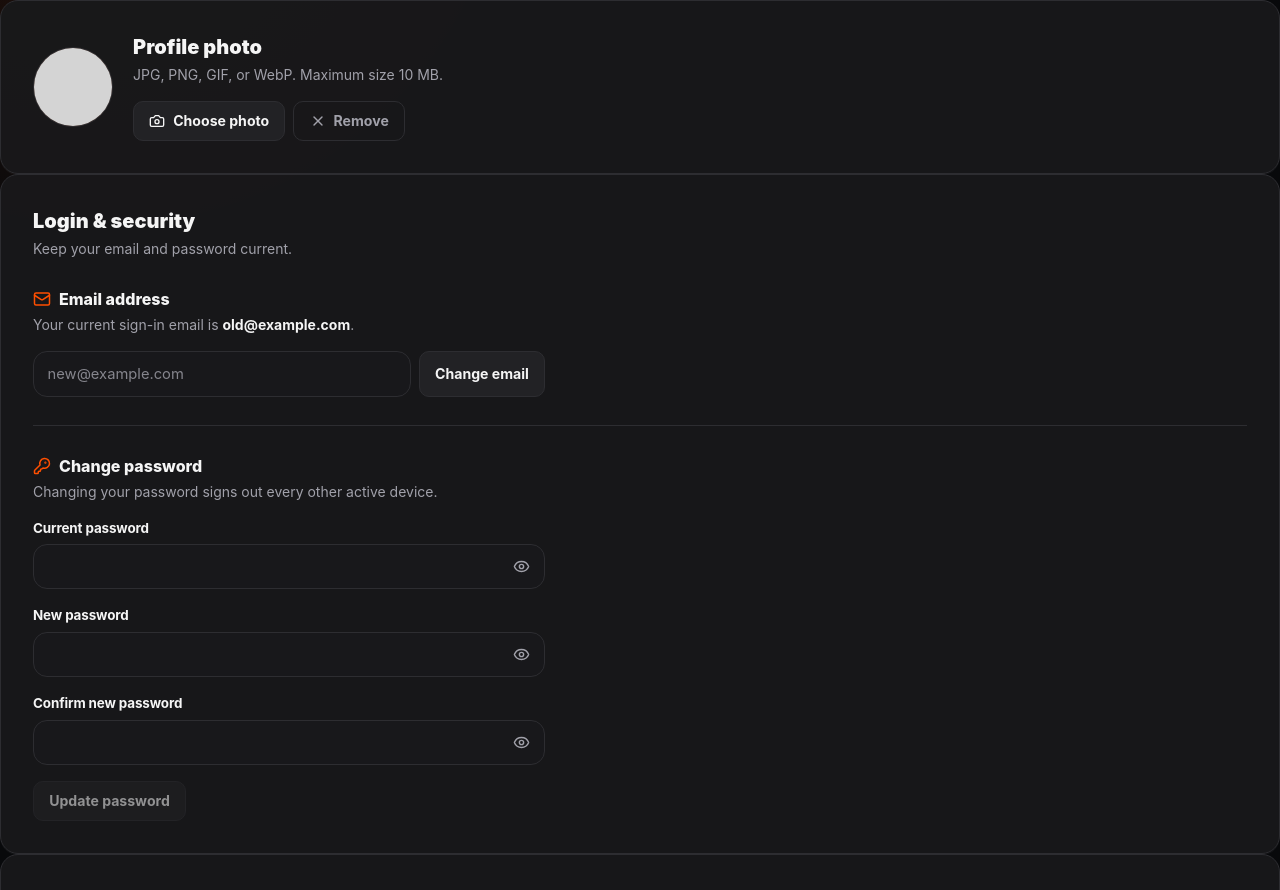
AccountSecurity › validates password confirmation and revokes other sessions on success
Type "old-secret" into the password field labelled "Current password" at (289,567), box [33, 544, 545, 590]
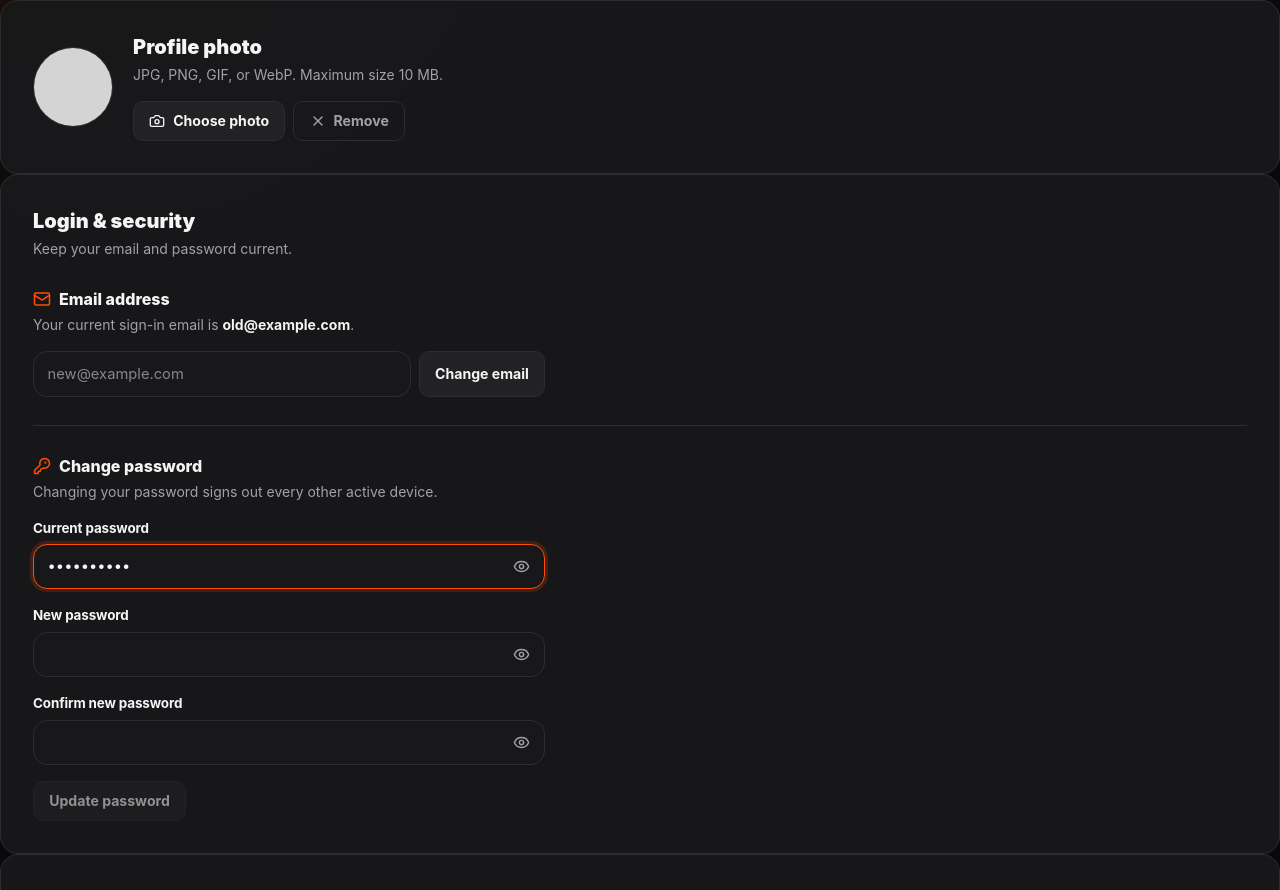
Type "new-secret-one" into the password field labelled "New password" at (289,654), box [33, 632, 545, 677]
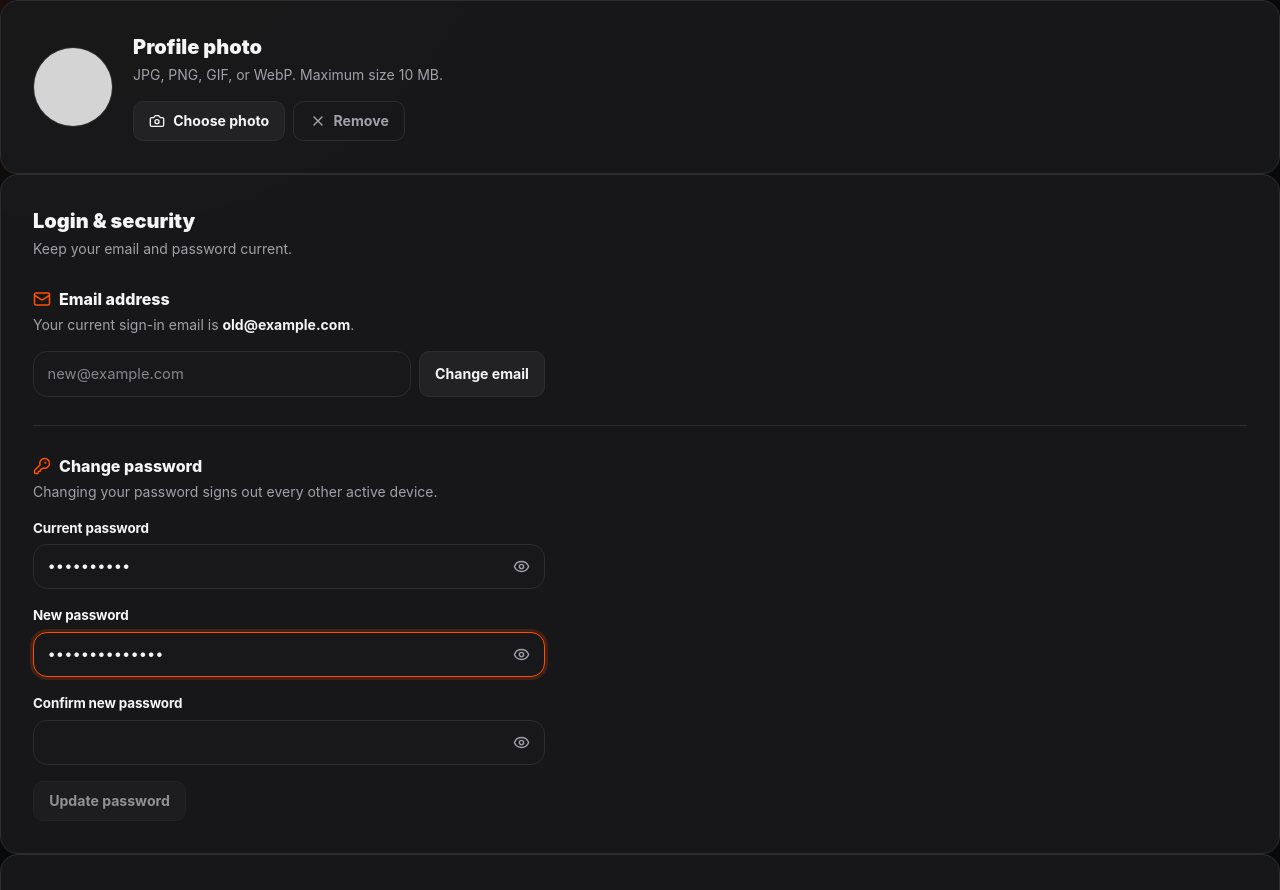
Type "new-secret-two" into the password field labelled "Confirm new password" at (289,742), box [33, 720, 545, 765]
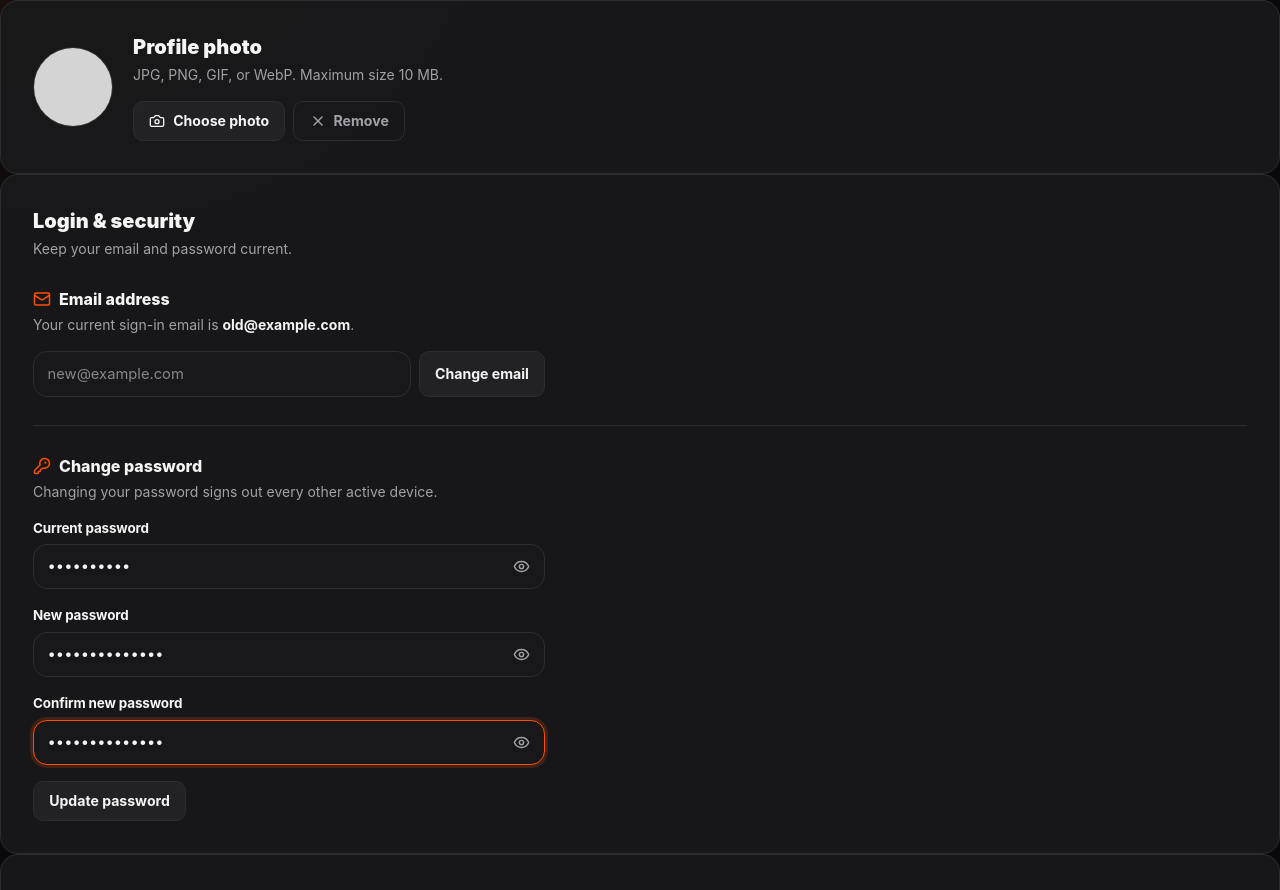
Click the button "Update password" at (110,801), box [33, 781, 186, 821]
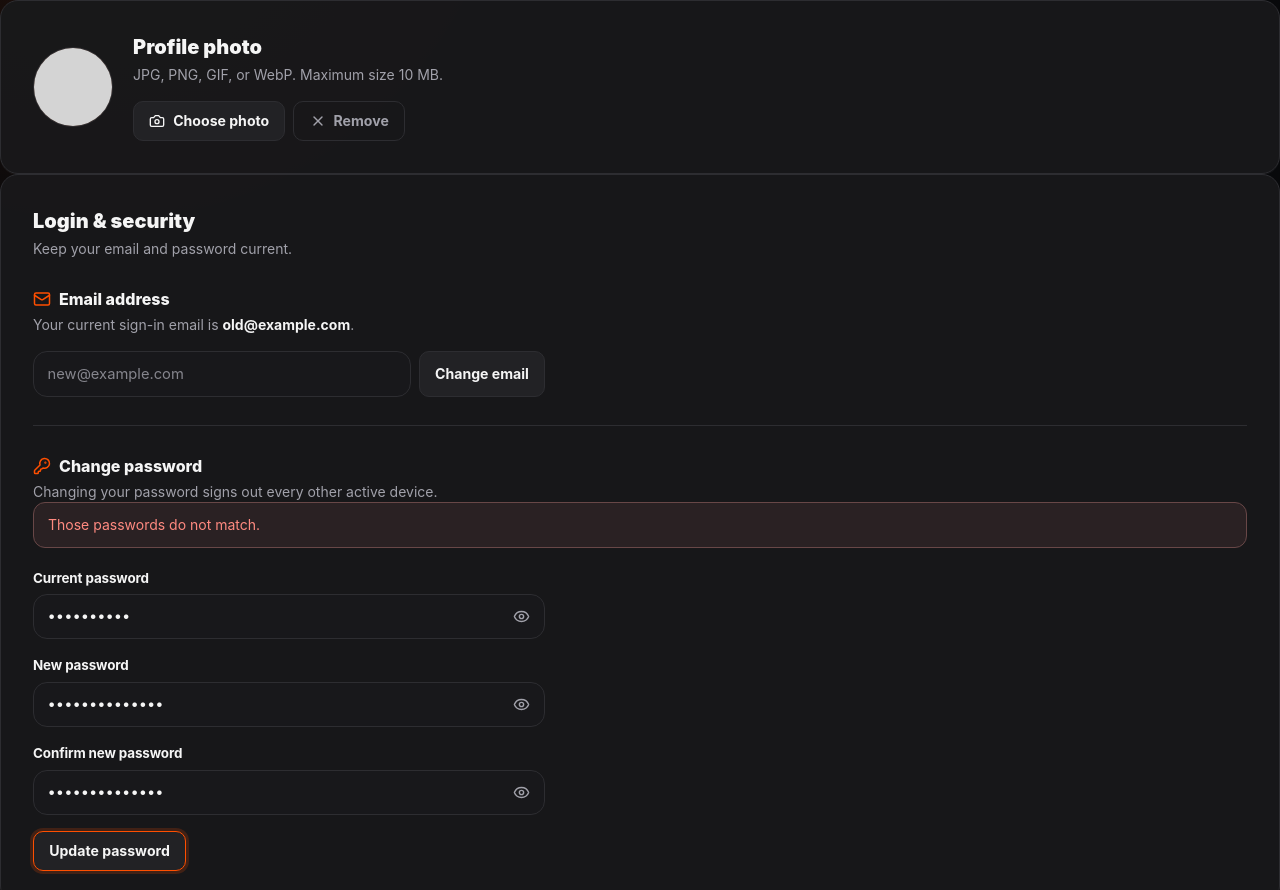
Expected: the message reads "Those passwords do not match.", [48, 516, 260, 533]
Type "new-secret-one" into the password field labelled "Confirm new password" at (289,792), box [33, 770, 545, 815]
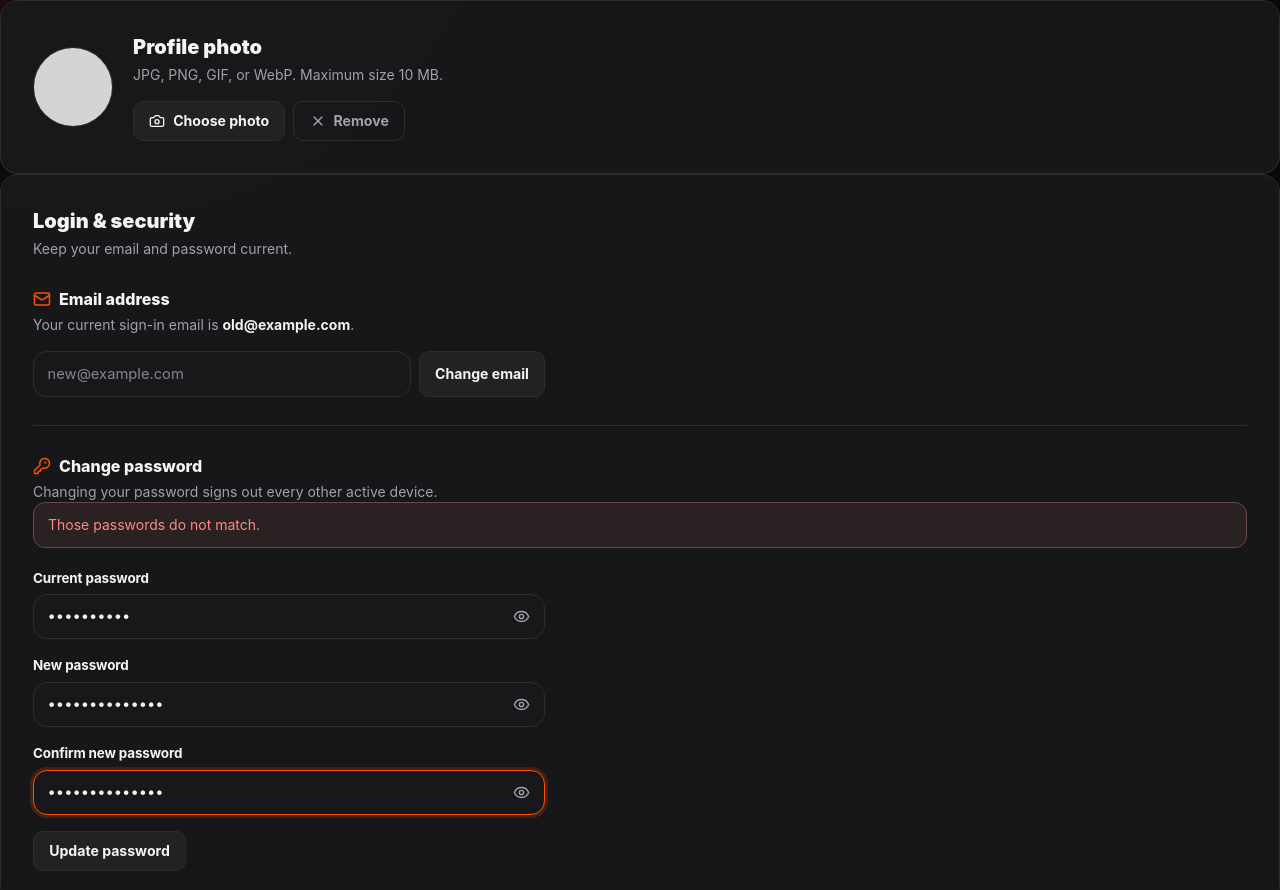
Click the button "Update password" at (110,851), box [33, 831, 186, 871]
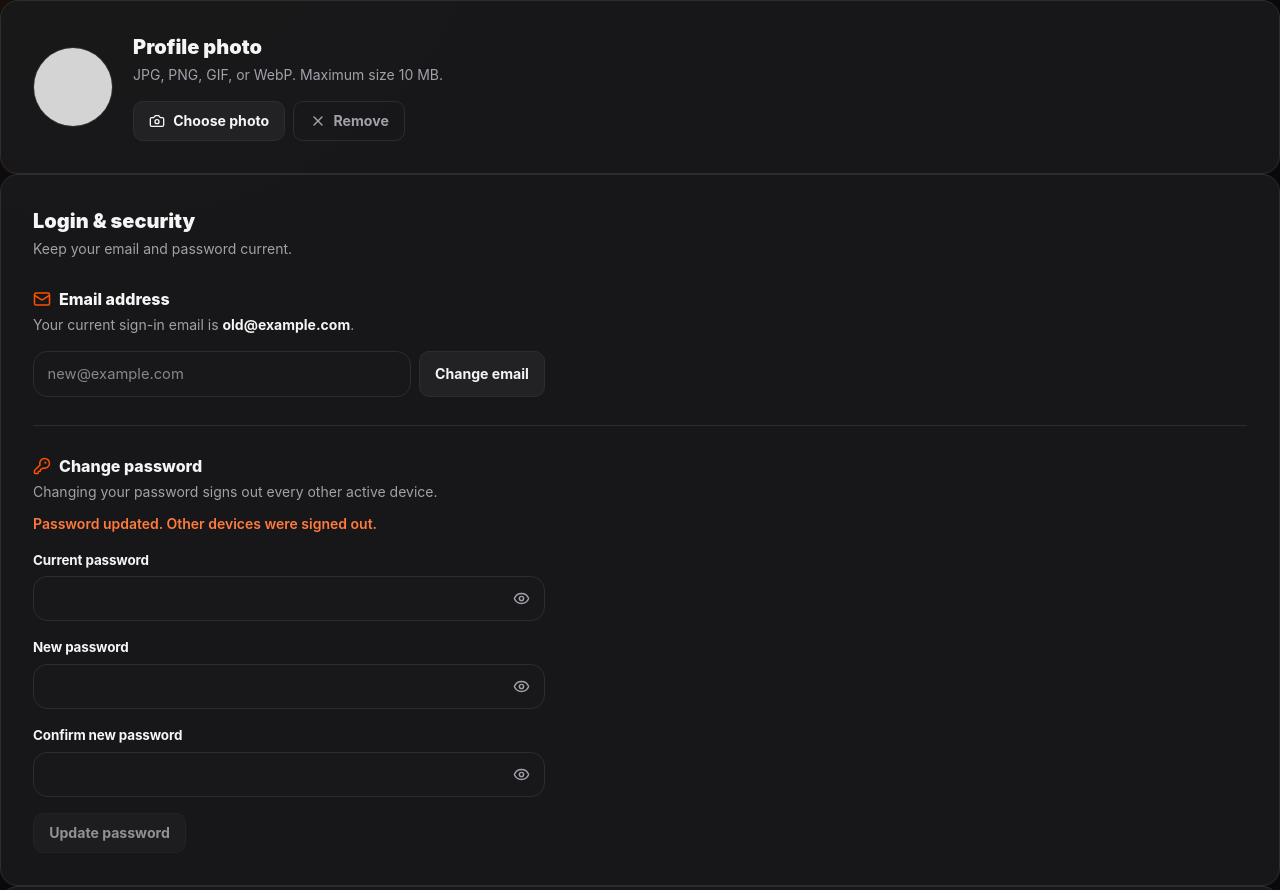
Expected: the text "Password updated. Other devices were signed out." is shown, [33, 515, 377, 532]
